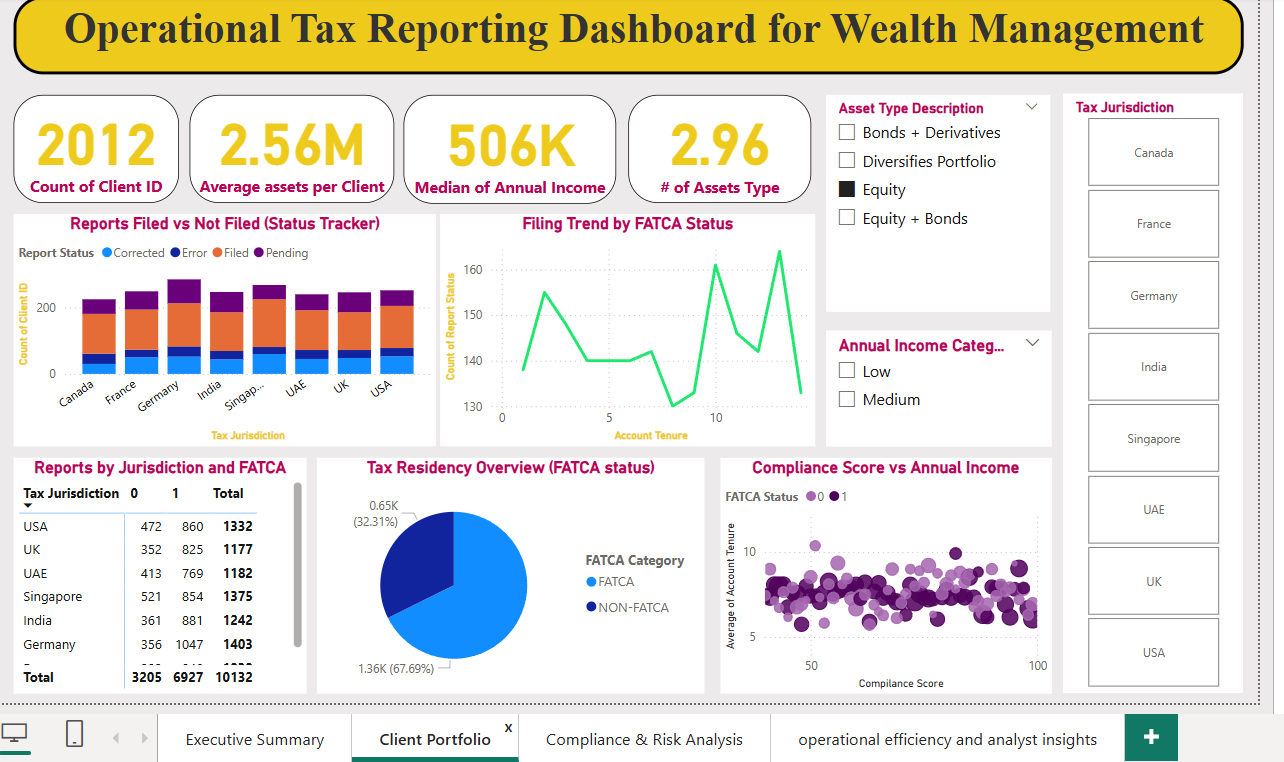

This screenshot's page, from the dashboard's own definition file:
{"tool":"powerbi","page":{"name":"Client Portfolio","canvas":[1280,720],"ordinal":1},"visuals":[{"type":"textbox","box":[13.3,0,1251.5,79.8],"z":0},{"type":"card","fields":{"Values":["Count(ClientData.Client ID)"]},"box":[13.9,100,168.1,109.7],"z":1000},{"type":"card","fields":{"Values":["Avg(ClientData.Total Assets)"]},"box":[193.1,100,208.3,109.7],"z":2000},{"type":"slicer","fields":{"Values":["ClientData.Tax  Jurisdiction"]},"box":[1082,99.7,182.8,610],"z":3000},{"type":"slicer","fields":{"Values":["ClientData.Annual Income Category"]},"box":[840,340,230,118],"z":4000},{"type":"slicer","fields":{"Values":["ClientData.Asset Type Description"]},"box":[840.9,100,228.2,220.9],"z":5000},{"type":"card","fields":{"Values":["Median(ClientData.Annual Income)"]},"box":[411.1,100,216.7,111.1],"z":6000},{"type":"card","fields":{"Values":["Avg(ClientData.Assets Type)"]},"box":[639.1,100,186.4,110],"z":7000},{"type":"columnChart","title":"Reports Filed vs Not Filed (Status Tracker)","fields":{"Category":["ClientData.Tax  Jurisdiction"],"Y":["Count(ClientData.Client ID)"],"Series":["ClientData.Report Status"]},"box":[14,222,430,236],"z":8000},{"type":"lineChart","title":"Filing Trend by FATCA Status","fields":{"Category":["ClientData.Account Tenure"],"Y":["CountNonNull(ClientData.Report Status)"]},"box":[448,222,382,236],"z":9000},{"type":"pivotTable","title":"Reports by Jurisdiction and FATCA","fields":{"Rows":["ClientData.Tax  Jurisdiction"],"Columns":["ClientData.FATCA Status"],"Values":["Sum(ClientData.Reports)"]},"box":[14.3,470,298.6,240],"z":10000},{"type":"pieChart","title":"Tax Residency Overview (FATCA status)","fields":{"Y":["CountNonNull(ClientData.Client ID)"],"Category":["ClientData.FATCA Category"]},"box":[322.9,470,394.3,240],"z":11000},{"type":"scatterChart","title":"Compliance Score vs Annual Income","fields":{"X":["ClientData.Compilance Score"],"Y":["Avg(ClientData.Account Tenure)"],"Series":["ClientData.FATCA Status"],"Size":["Sum(ClientData.Total Assets)"]},"box":[732.9,470,337.1,240],"z":12000}]}

Visuals, with their boxes on the page's 1280x720 design canvas (x1, y1, x2, y2). These are canvas units, not pixel positions in the 1284x762 screenshot, which may show the page scaled, cropped or inside an application window:
textbox: detection(13, 0, 1265, 80)
card - Count(ClientData.Client ID): detection(14, 100, 182, 210)
card - Avg(ClientData.Total Assets): detection(193, 100, 401, 210)
slicer - ClientData.Tax  Jurisdiction: detection(1082, 100, 1265, 710)
slicer - ClientData.Annual Income Category: detection(840, 340, 1070, 458)
slicer - ClientData.Asset Type Description: detection(841, 100, 1069, 321)
card - Median(ClientData.Annual Income): detection(411, 100, 628, 211)
card - Avg(ClientData.Assets Type): detection(639, 100, 826, 210)
"Reports Filed vs Not Filed (Status Tracker)" columnChart: detection(14, 222, 444, 458)
"Filing Trend by FATCA Status" lineChart: detection(448, 222, 830, 458)
"Reports by Jurisdiction and FATCA" pivotTable: detection(14, 470, 313, 710)
"Tax Residency Overview (FATCA status)" pieChart: detection(323, 470, 717, 710)
"Compliance Score vs Annual Income" scatterChart: detection(733, 470, 1070, 710)
